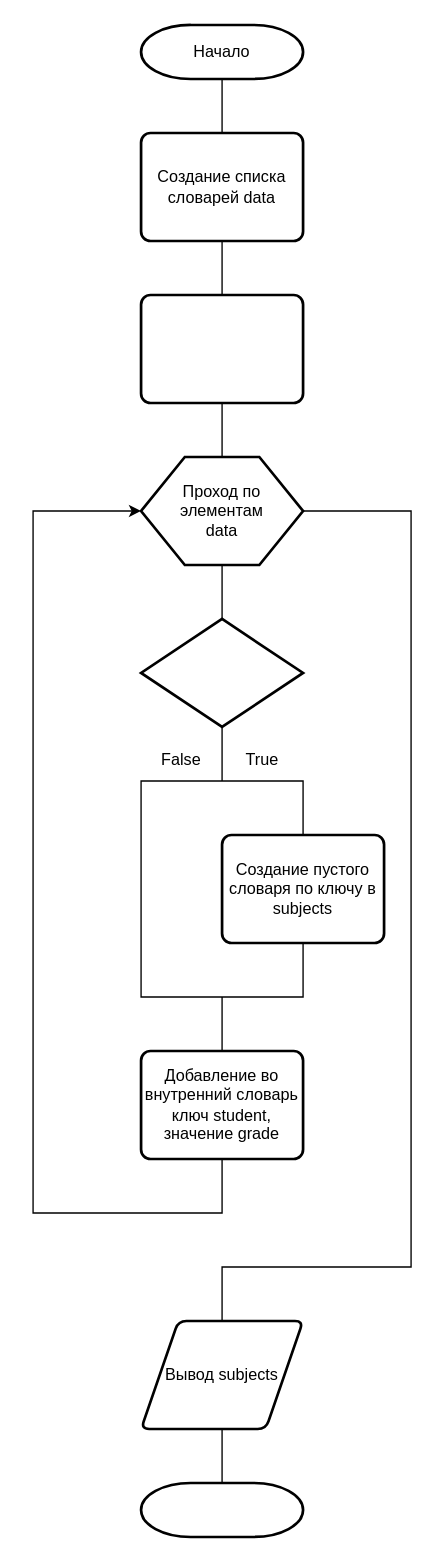
The diagram is 436 pixels wide and 1561 high, and some of its shapes have lost their labels. Each missing label, with the centre of its shape:
subject нет в ключах subjects: (221,672)
Конец: (221,1509)
Создание пустого словаря subjects: (221,348)
